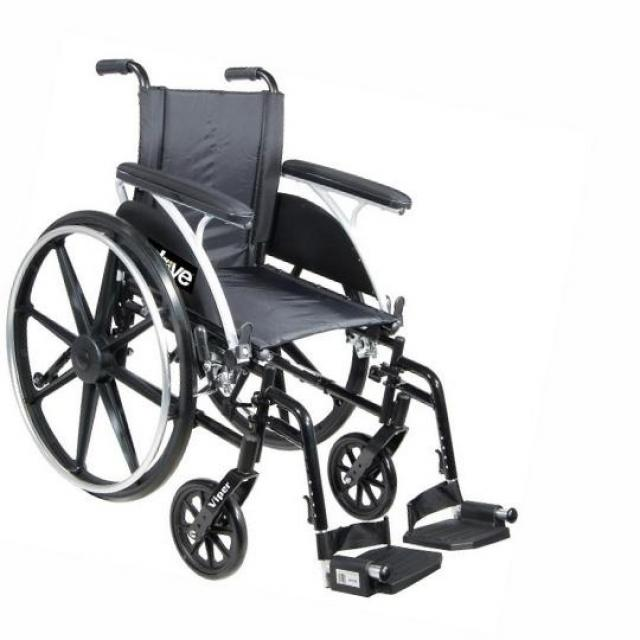wheelchair: (7, 44, 536, 624)
